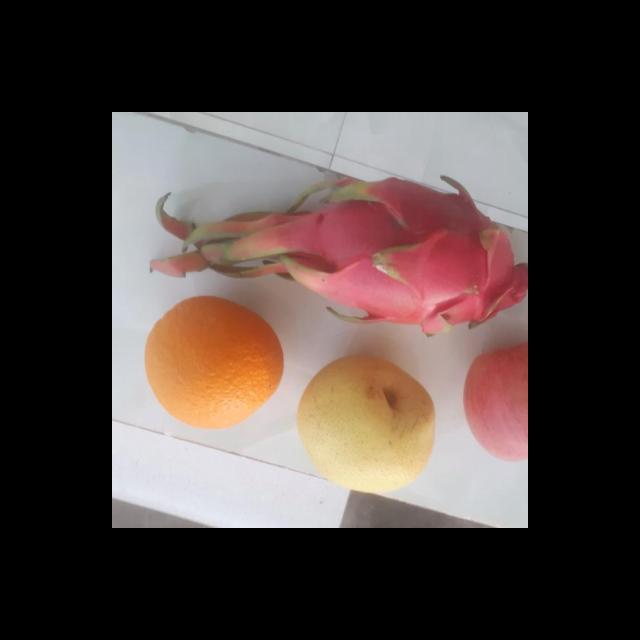apple: (460, 342, 528, 466)
orange: (136, 298, 289, 430)
pear: (292, 356, 443, 491)
